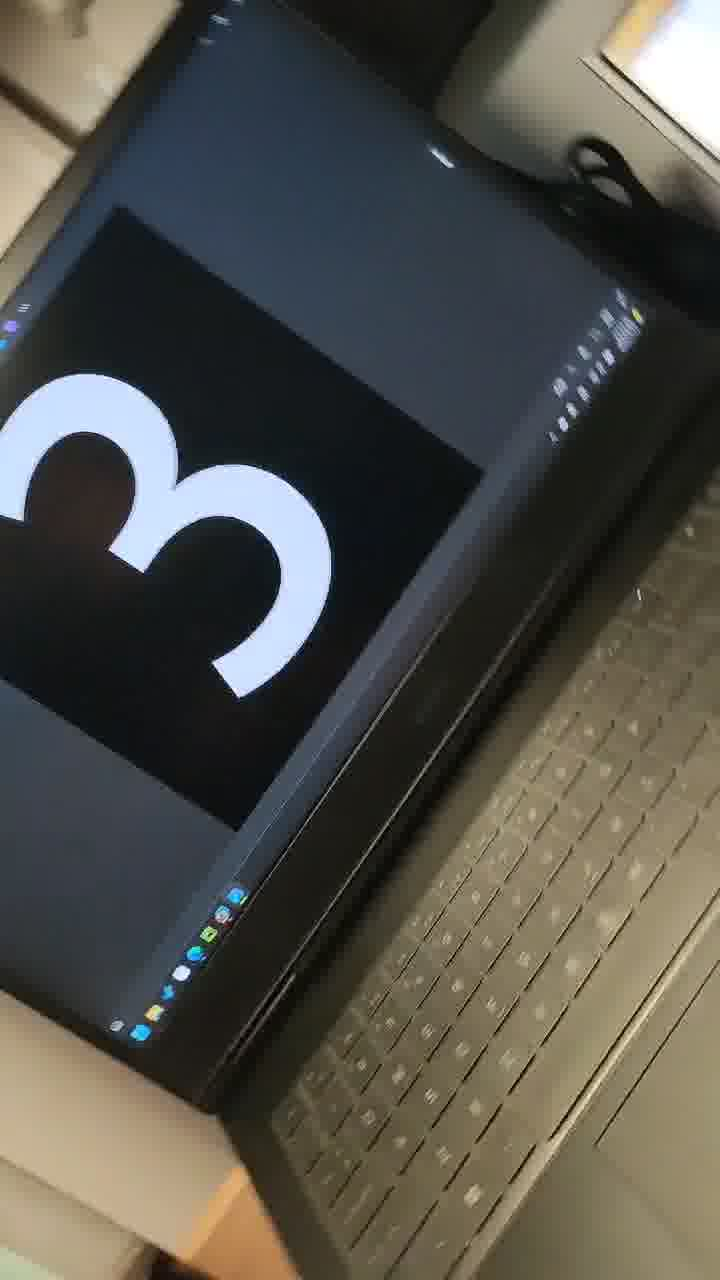three: (8, 309, 366, 750)
